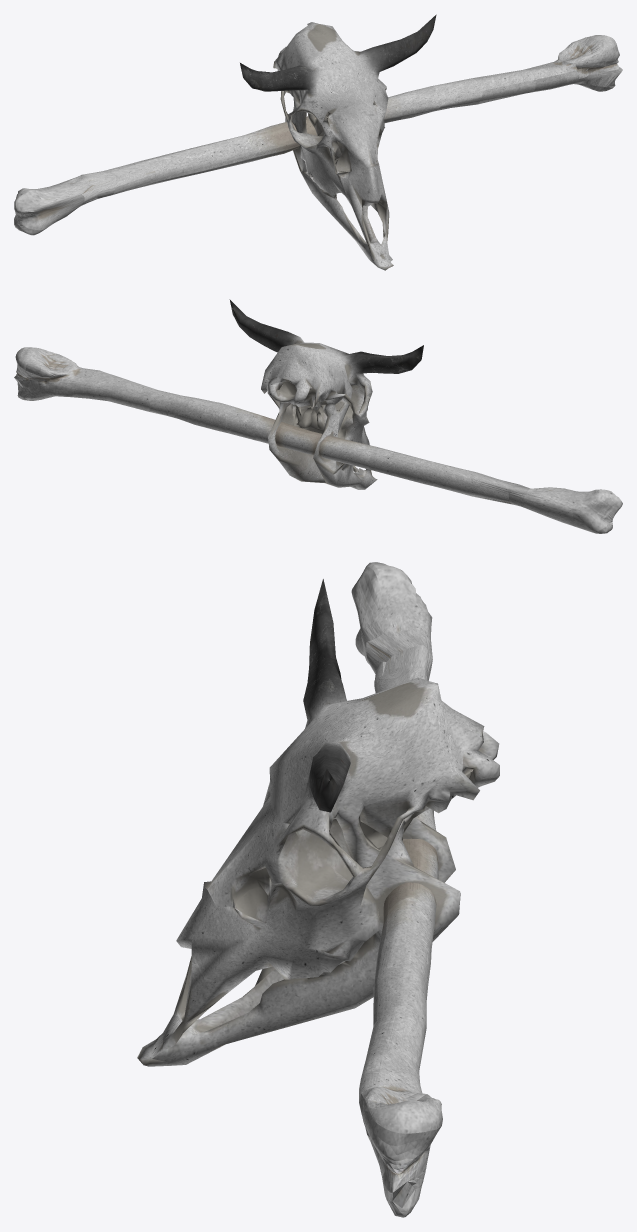
File: palka_9.glb
3 renders of one model, top to bottom at view 1: azimuth 30°, elevation 25°; view 2: azimuth 150°, elevation 25°; view 3: azimuth 270°, elevation 25°, orthographic. The views are drawn at different scales.
Visible parts, largest first — view 1: palka_9; view 2: palka_9; view 3: palka_9.
Part boxes in pixels (left/top/right/bottom): palka_9: left=14, top=14, right=622, bottom=270; palka_9: left=14, top=299, right=622, bottom=533; palka_9: left=137, top=562, right=499, bottom=1217.
Bounding box in the file's own units: 84.96 × 26.51 × 22.19.
2 materials, 2 textured.
